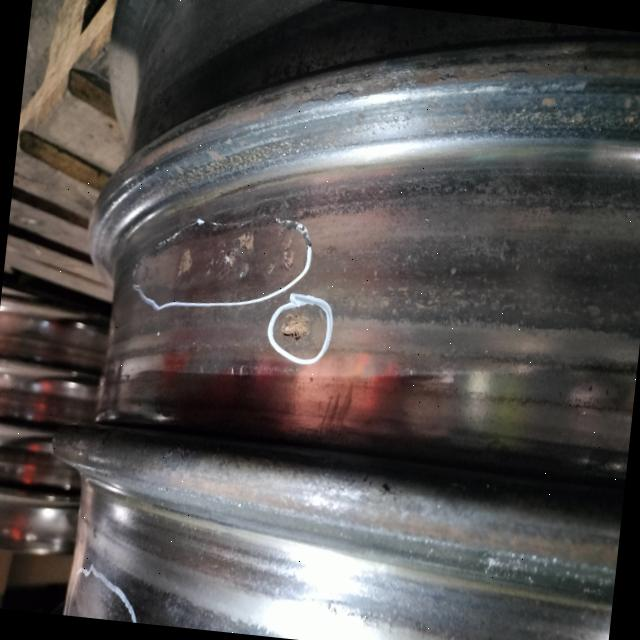Blue hole: (280, 314, 315, 344)
Peeling: (204, 227, 257, 292), (171, 235, 200, 287), (272, 230, 299, 278)
